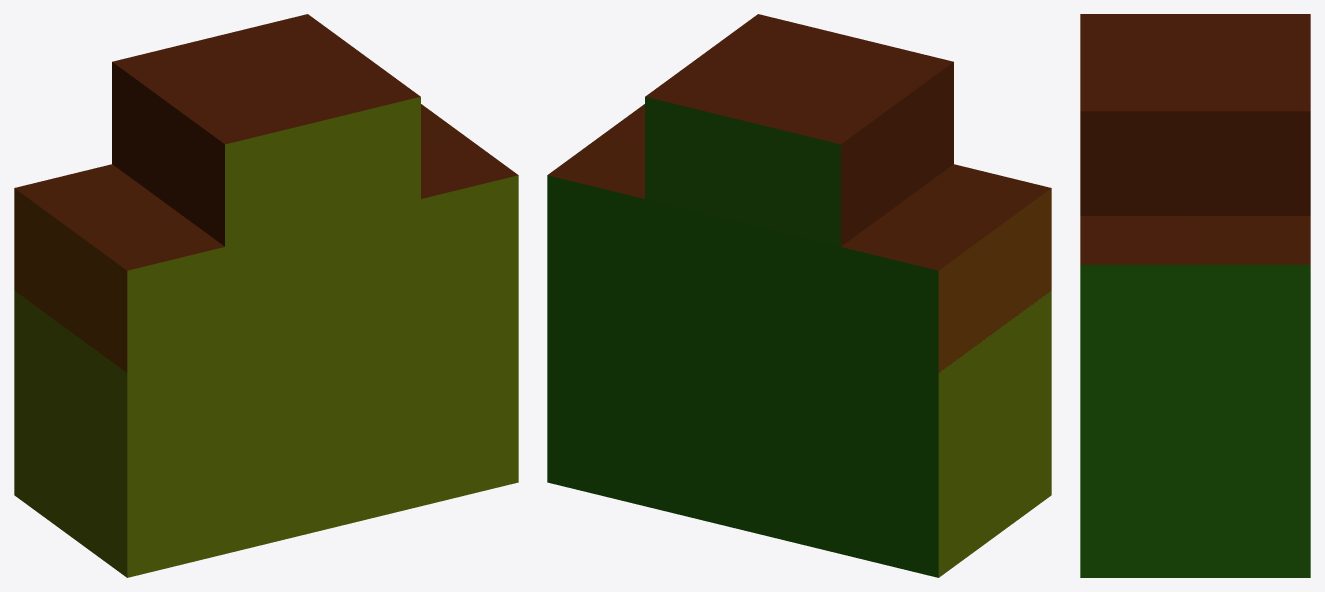
The model's file is block_33.fbx.
The picture shows the model from 3 angles, left to right: view 1: azimuth 30°, elevation 25°; view 2: azimuth 150°, elevation 25°; view 3: azimuth 270°, elevation 25°; orthographic projection. The views are drawn at different scales.
Visible parts, largest first — view 1: box.018; view 2: box.018; view 3: box.018.
Boxes of the visible parts, x1,y1,x2,y2 form: box.018: [14, 14, 518, 577]; box.018: [547, 14, 1051, 577]; box.018: [1080, 14, 1310, 577].
Bounding box in the file's own units: 400 × 400 × 200.
